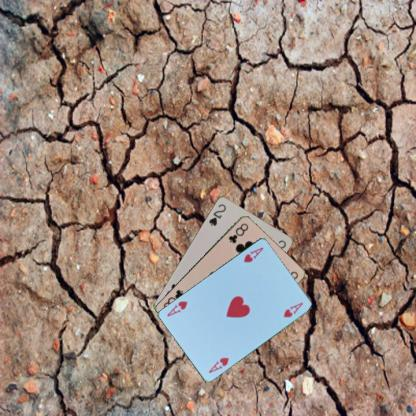2s: (206, 201, 227, 227)
8c: (226, 220, 250, 245)
Ah: (206, 354, 230, 374), (241, 245, 265, 264)
